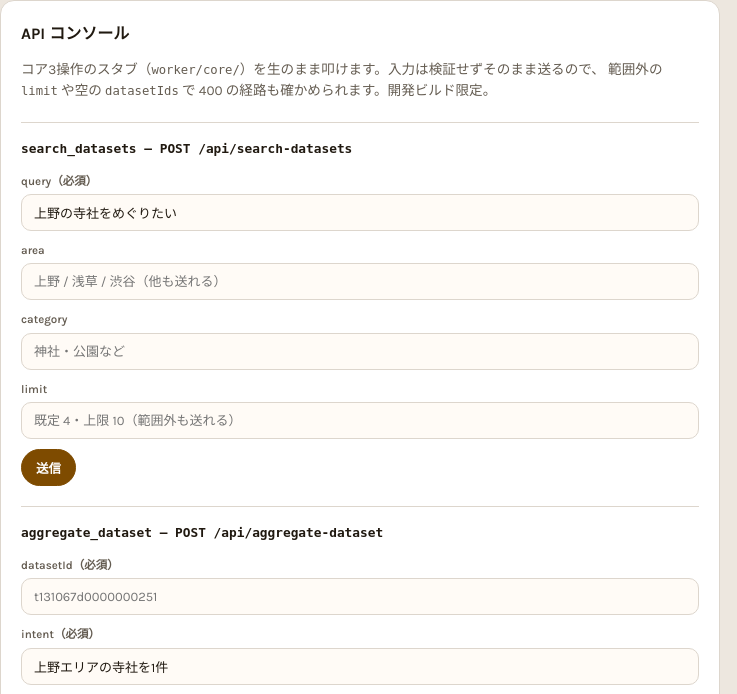
Test case: ApiConsole › status が仕様外の 200 は「status 不明」の警告として表示される（alert にしない）
The width and height of the screenshot is (737, 694).
Step 1. Click the button "送信" below "category" → (48, 468), box x1=21 y1=449 x2=76 y2=486
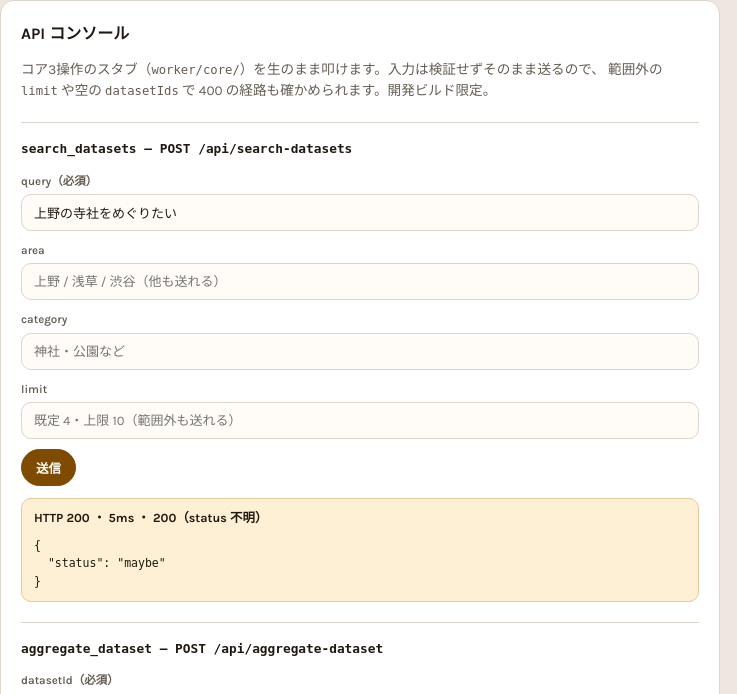
expect the message shows "200（status 不明）": met, box x1=34 y1=511 x2=267 y2=525
